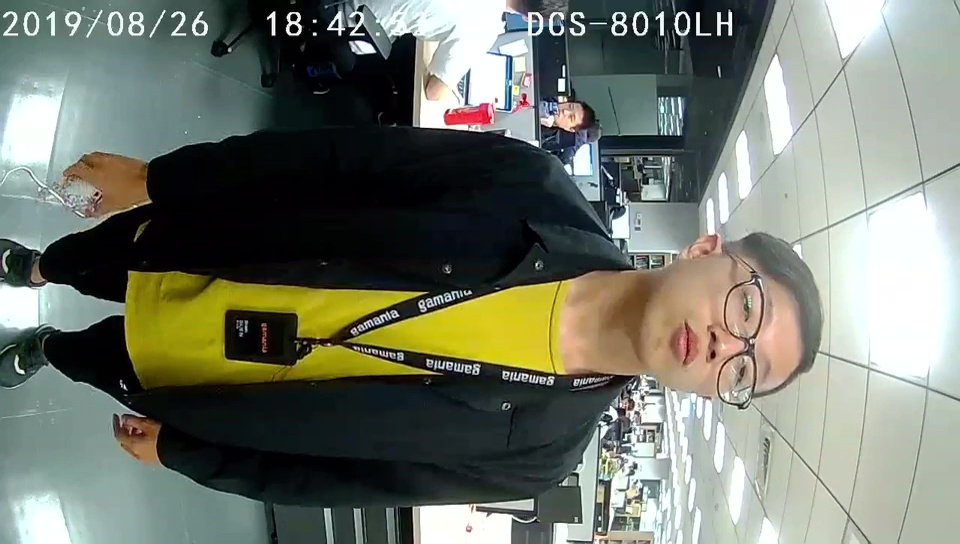pig: (64, 175, 105, 220)
